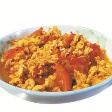fanqiechaojidan: (1, 25, 112, 95)
